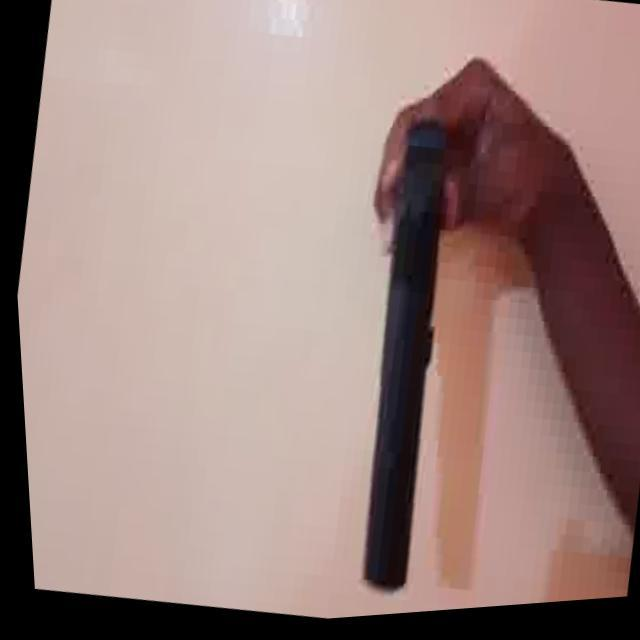weapon: (299, 102, 492, 605)
